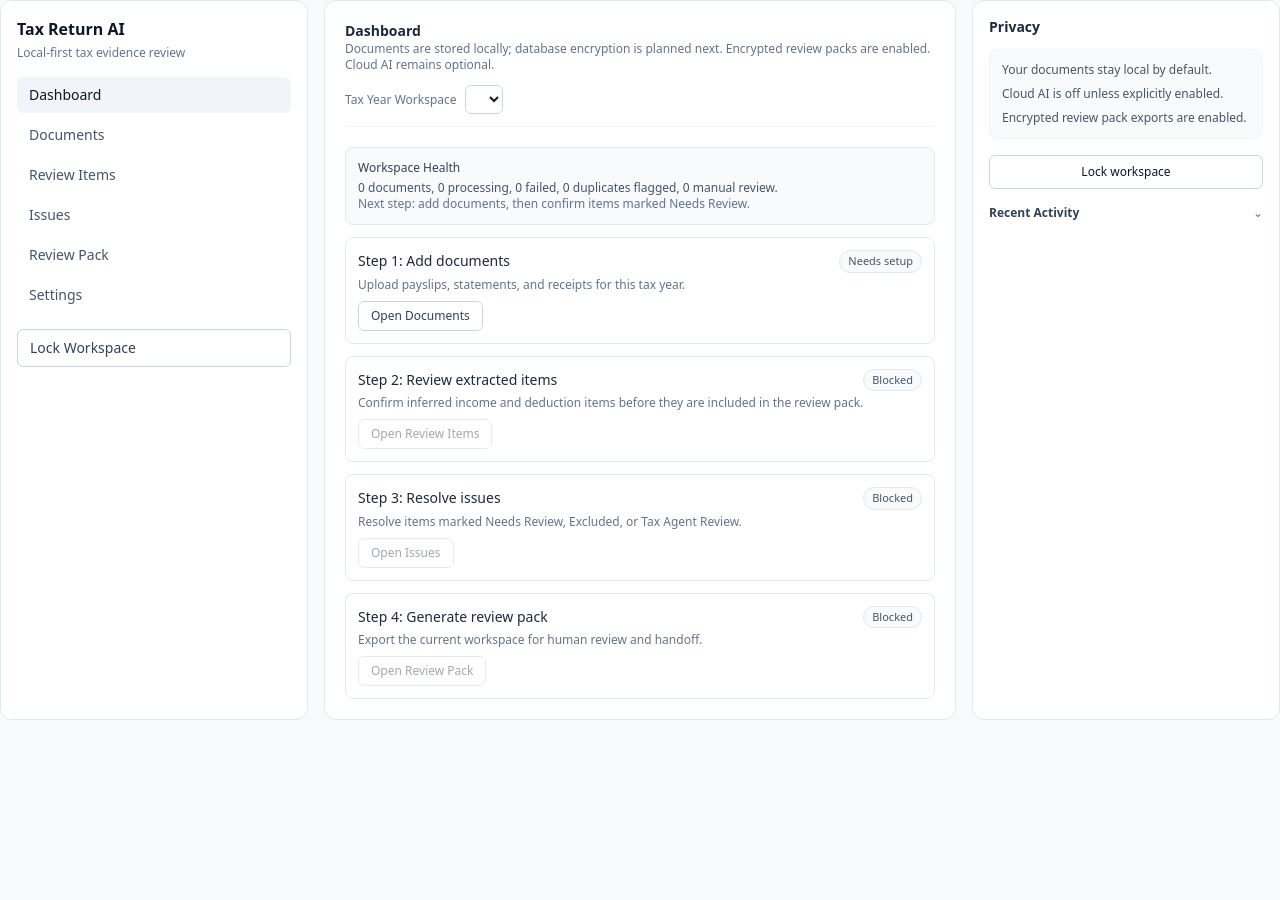
Test case: WorkspaceApp API-backed states › ready state explains encrypted review pack contents
What coordinates should you click on to do the following:
click the button "Review Pack"
I would click on:
 (69, 254)
Its box is [17, 237, 291, 273].
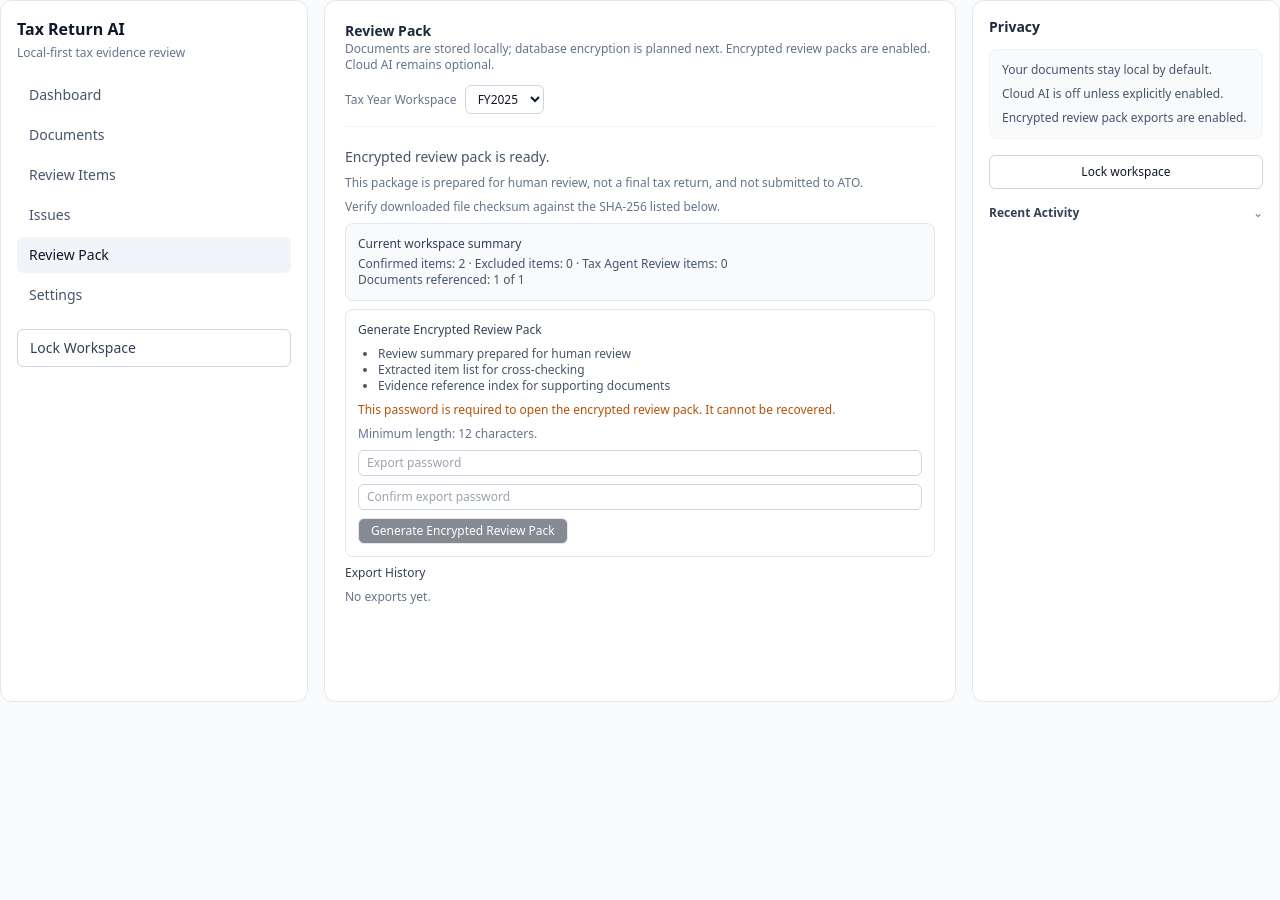
Now the list item "Review summary prepared for human review" is shown, box [378, 345, 631, 362]
Now the list item "Extracted item list for cross-checking" is shown, box [378, 361, 585, 378]
Now the list item "Evidence reference index for supporting documents" is shown, box [378, 377, 670, 394]
